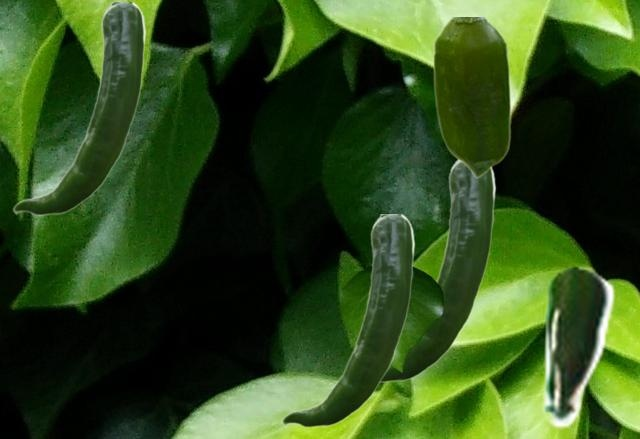green_chili: (281, 214, 414, 427), (12, 2, 145, 215), (381, 160, 495, 382), (537, 264, 615, 428), (432, 17, 510, 177)
